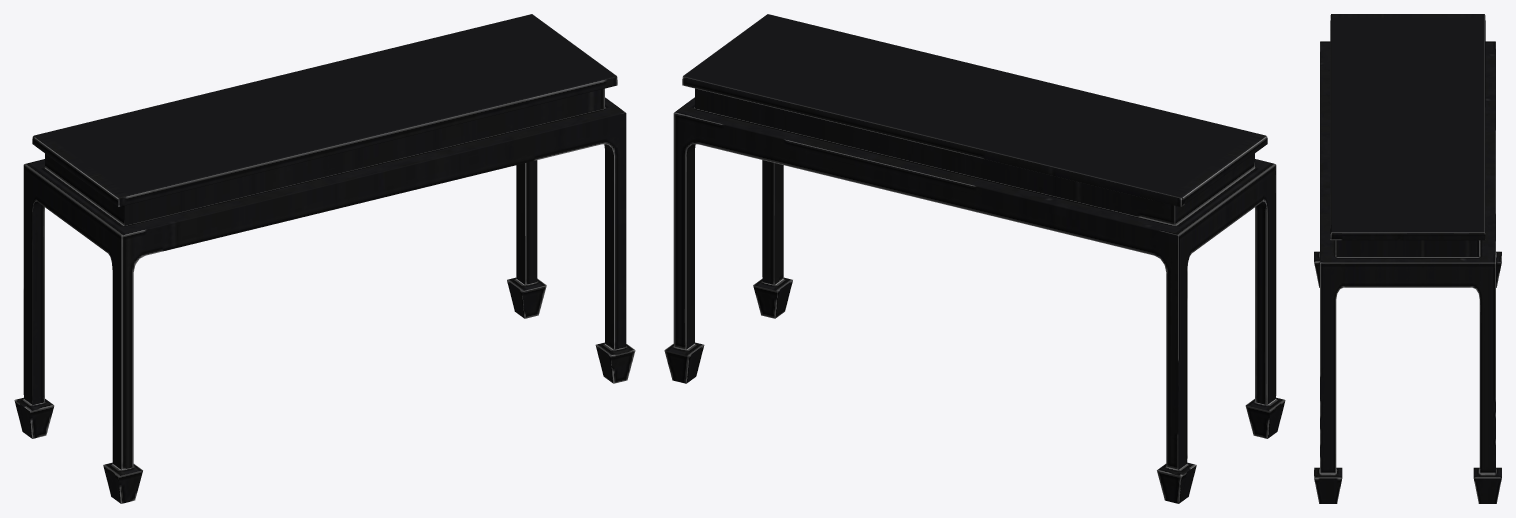
File: SSN_Table black.fbx
The picture shows the model from 3 angles, left to right: view 1: azimuth 30°, elevation 25°; view 2: azimuth 150°, elevation 25°; view 3: azimuth 270°, elevation 25°; orthographic projection. The views are drawn at different scales.
Visible parts, largest first — view 1: prop_SSN_Table; view 2: prop_SSN_Table; view 3: prop_SSN_Table.
Part boxes in pixels (x1,y1,x2,y2): prop_SSN_Table: (14,14,635,503); prop_SSN_Table: (664,14,1285,503); prop_SSN_Table: (1314,14,1501,503).
Size of the model in its own units: 0.4999 by 0.2774 by 0.1748.
